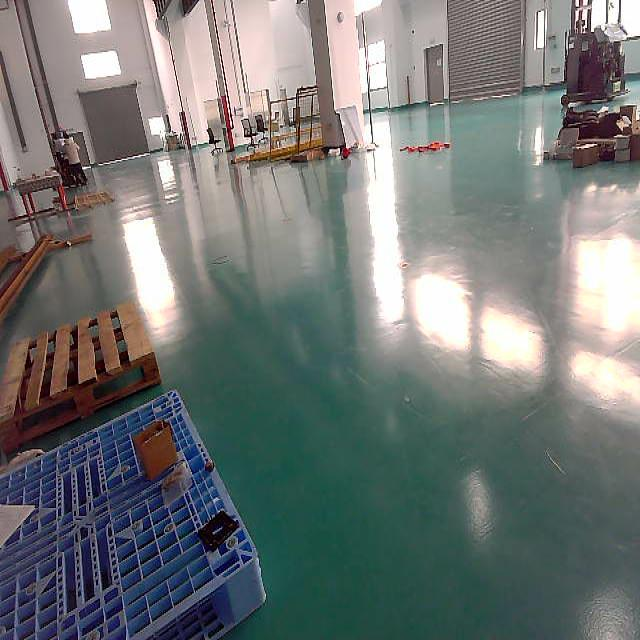euro: (0, 303, 160, 451)
